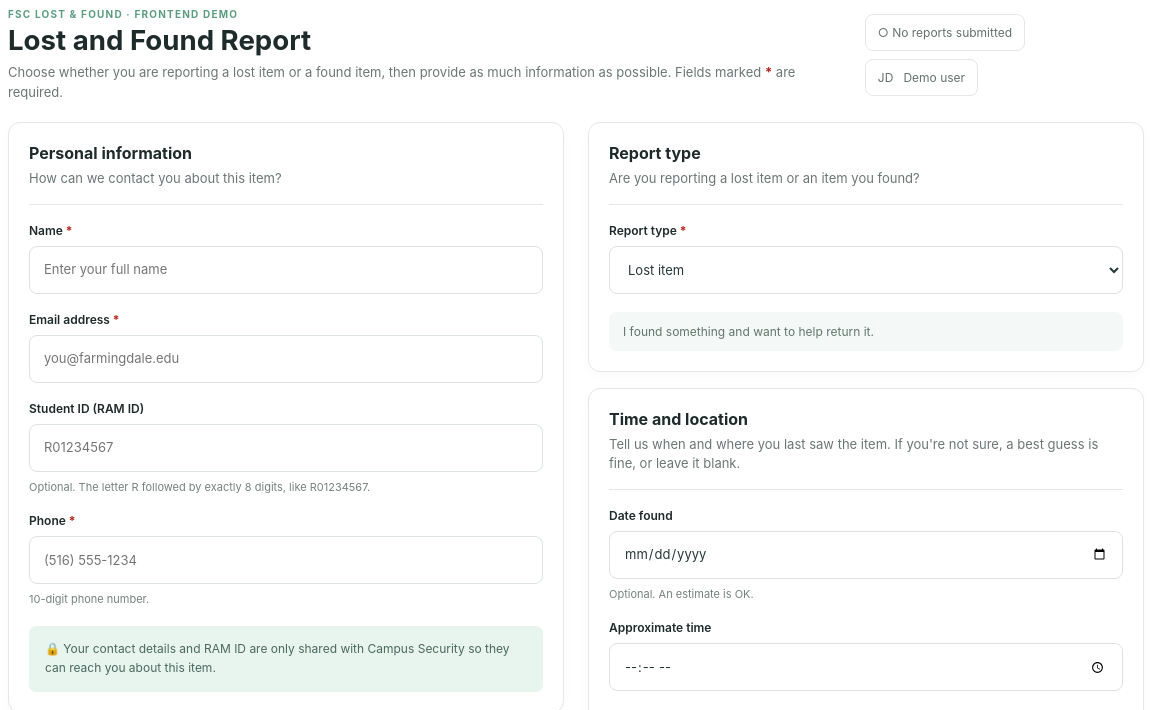
Scenario: ReportPage › shows the RAM ID error as soon as the user leaves the field
Type "R123456789" into the field labelled "Student ID" at (286, 448), box [29,424,543,472]
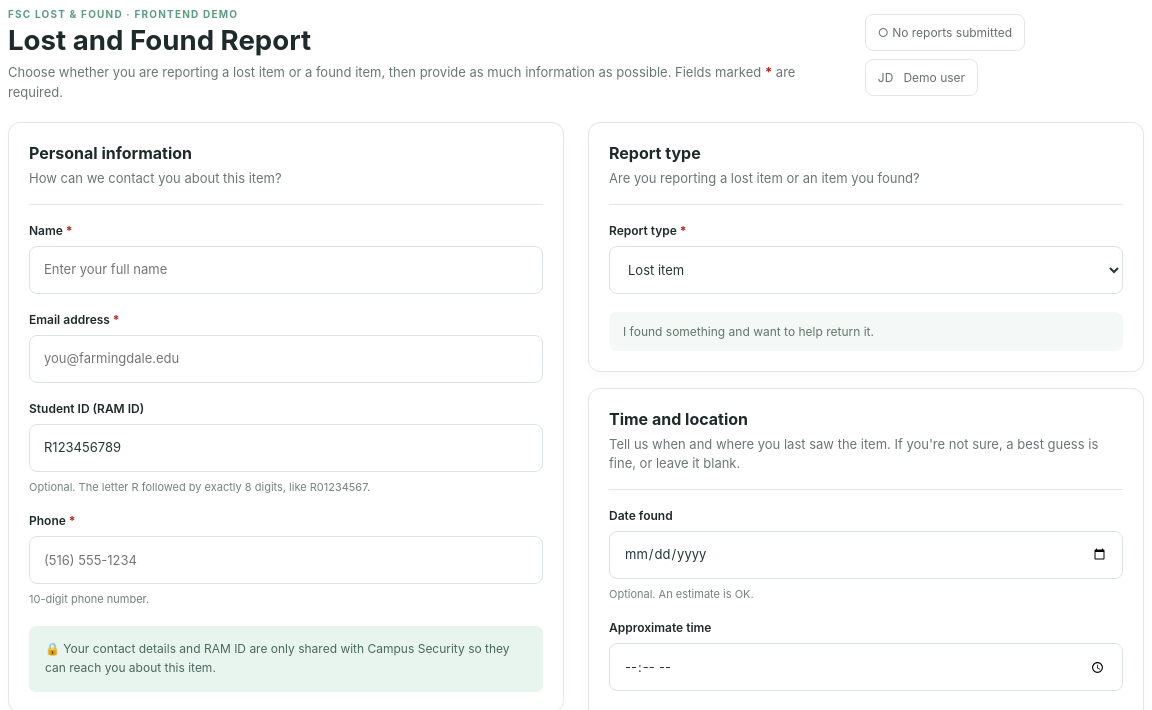
Leave the field labelled "Student ID", box [29,424,543,472]
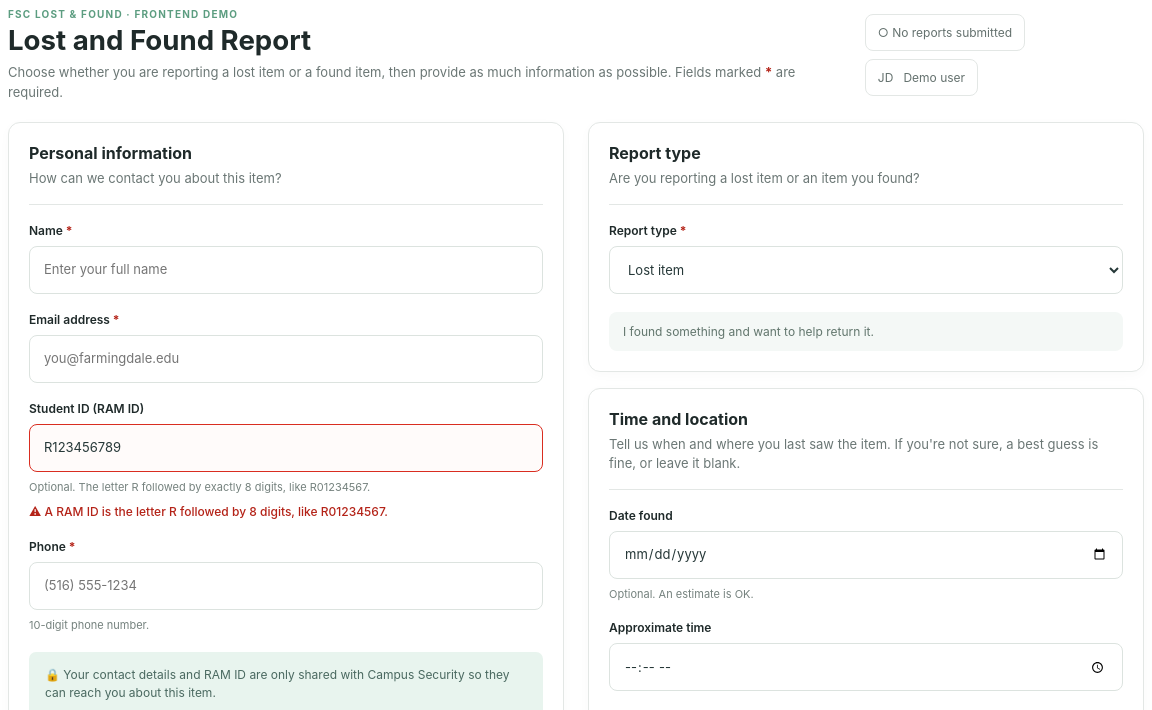
Expected: the text "A RAM ID is the letter R followed by 8 digits, like R01234567." is shown, [44,504,388,519]
